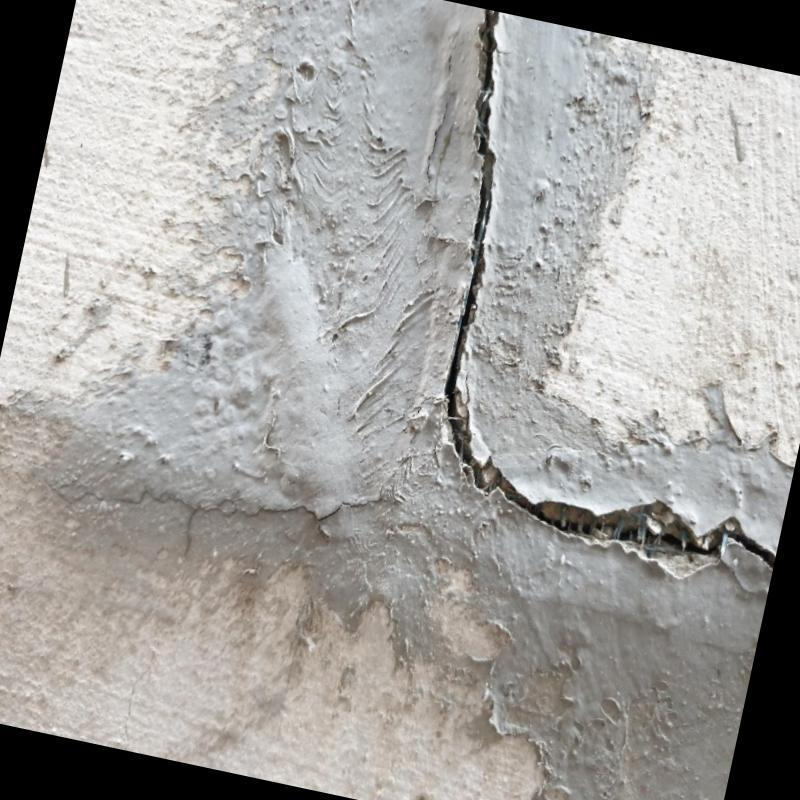pothole: (446, 10, 776, 581)
